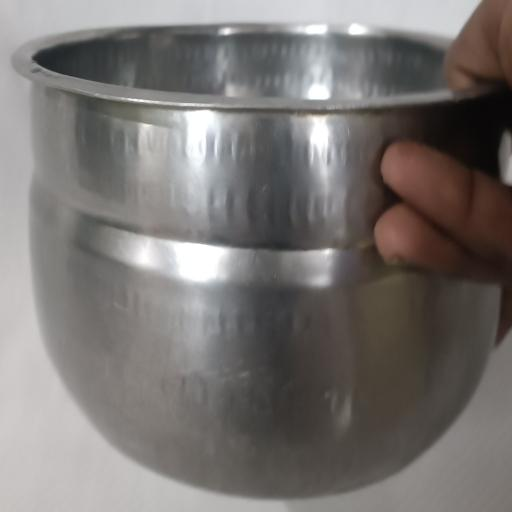vessel: (13, 25, 510, 497)
